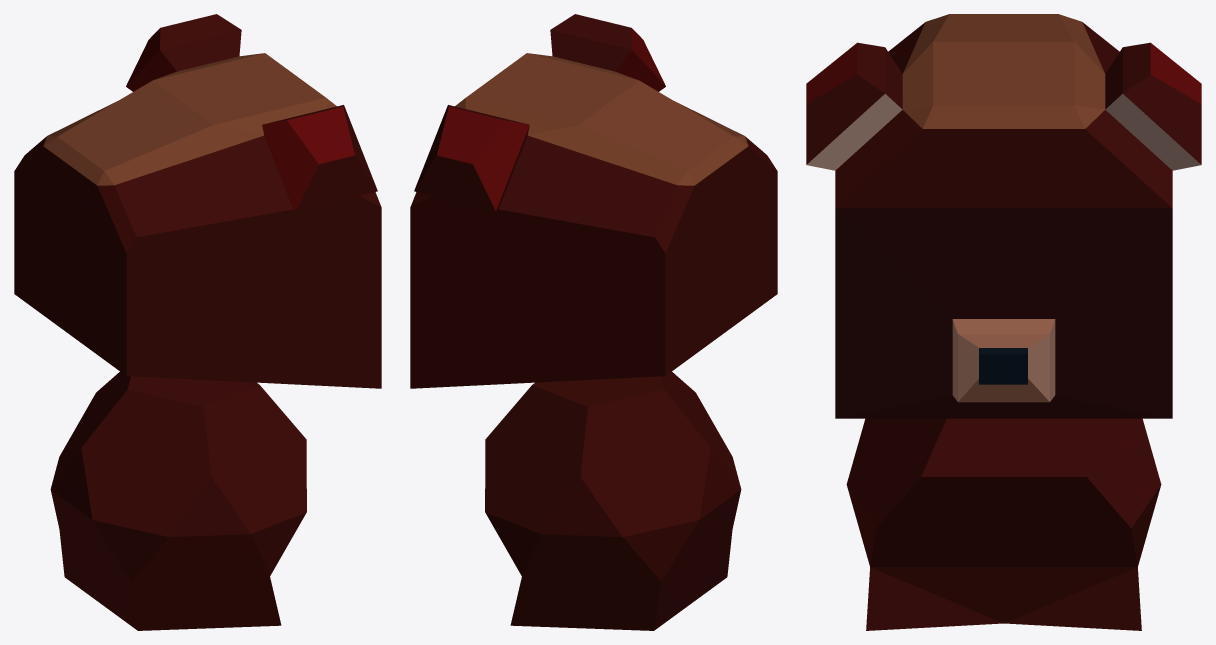
File: bearkin.glb
3 renders of one model, left to right at view 1: azimuth 30°, elevation 25°; view 2: azimuth 150°, elevation 25°; view 3: azimuth 270°, elevation 25°, orthographic. The views are drawn at different scales.
Visible parts, largest first — view 1: bearkin; view 2: bearkin; view 3: bearkin.
Part boxes in pixels (left/top/right/bottom): bearkin: left=14, top=14, right=381, bottom=630; bearkin: left=410, top=14, right=777, bottom=630; bearkin: left=806, top=14, right=1201, bottom=630.
Size of the model in its own units: 1.77 by 3.1 by 1.88.
1 material, 1 textured.
